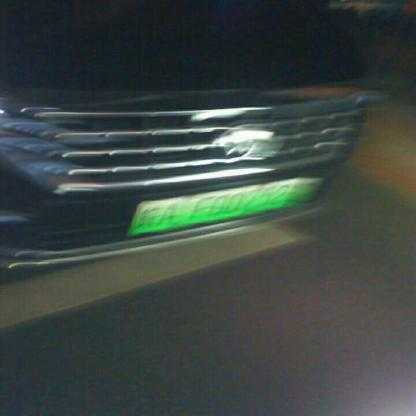lp: (131, 179, 296, 234)
